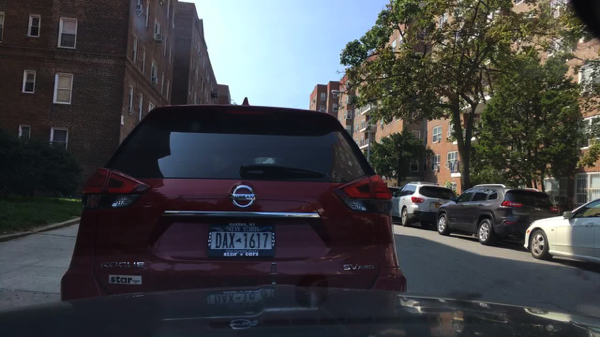car: (58, 96, 405, 301), (434, 183, 558, 247), (522, 197, 598, 268), (389, 181, 455, 228), (389, 187, 400, 197)
